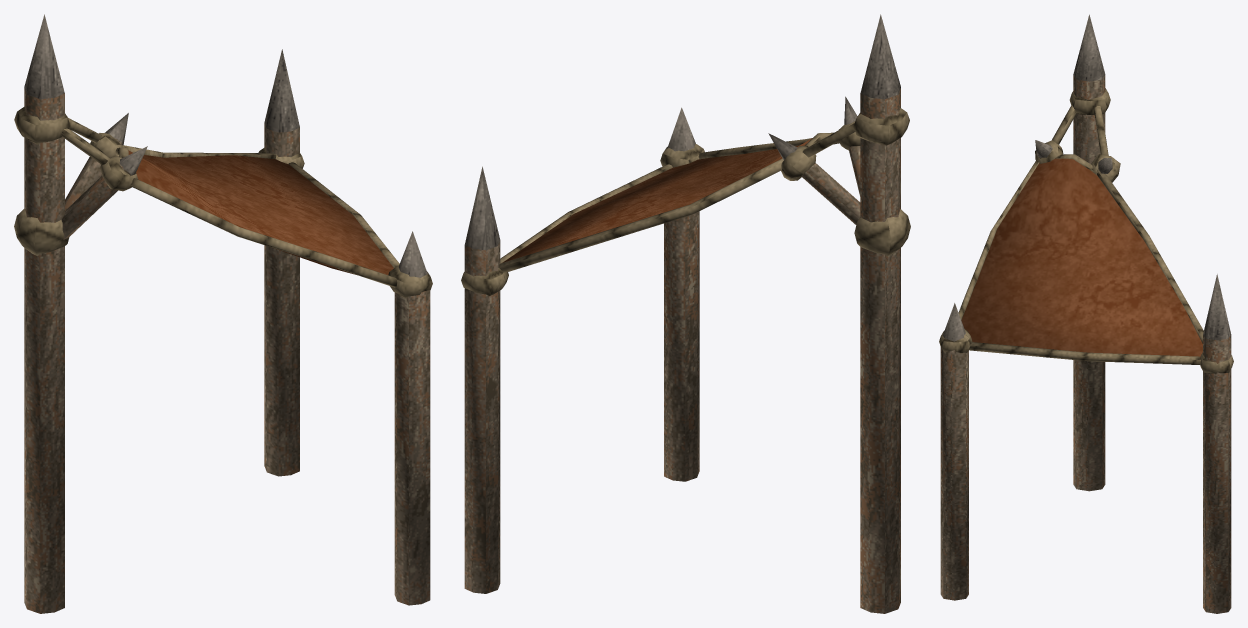
The model's file is M_Human_Cover.glb.
The picture shows the model from 3 angles, left to right: view 1: azimuth 30°, elevation 25°; view 2: azimuth 150°, elevation 25°; view 3: azimuth 270°, elevation 25°; orthographic projection. The views are drawn at different scales.
Parts seen in each view (by area): view 1: M_Cover; view 2: M_Cover; view 3: M_Cover.
Part boxes in pixels (<box>): M_Cover: <box>14,14,432,613</box>; M_Cover: <box>461,14,910,613</box>; M_Cover: <box>939,14,1233,613</box>.
Bounding box in the file's own units: 9.85 × 15.48 × 8.79.
4 materials, 4 textured.
